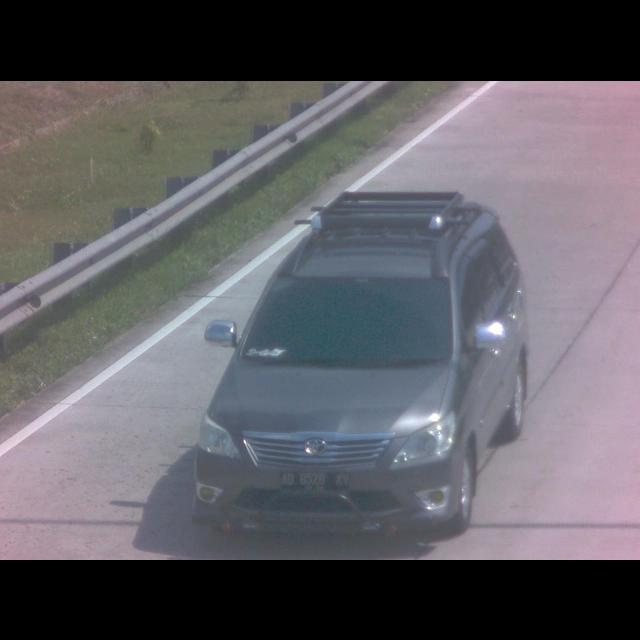plate: (276, 464, 350, 492)
